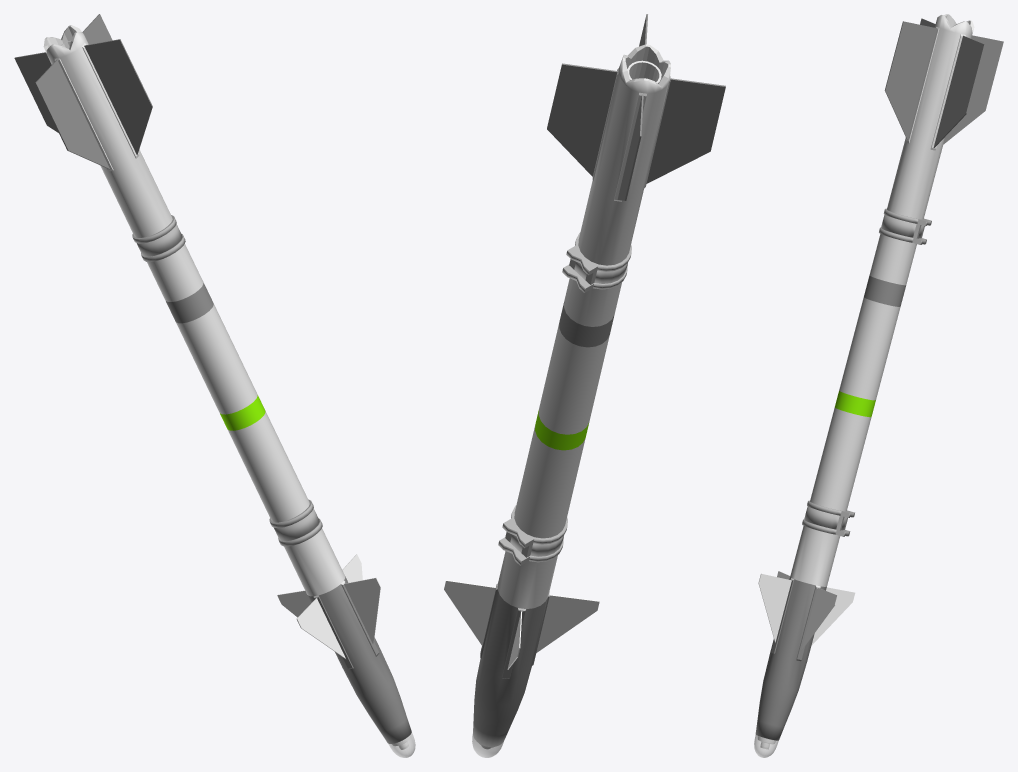
File: missile.fbx
The picture shows the model from 3 angles, left to right: view 1: azimuth 30°, elevation 25°; view 2: azimuth 150°, elevation 25°; view 3: azimuth 270°, elevation 25°; orthographic projection. The views are drawn at different scales.
Parts seen in each view (by area): view 1: Sphere02; view 2: Sphere02; view 3: Sphere02.
Boxes of the visible parts, x1,y1,x2,y2 form: Sphere02: [14, 14, 415, 757]; Sphere02: [444, 14, 725, 757]; Sphere02: [754, 14, 1003, 757].
Size of the model in its own units: 3.75 by 8.73 by 3.07.
